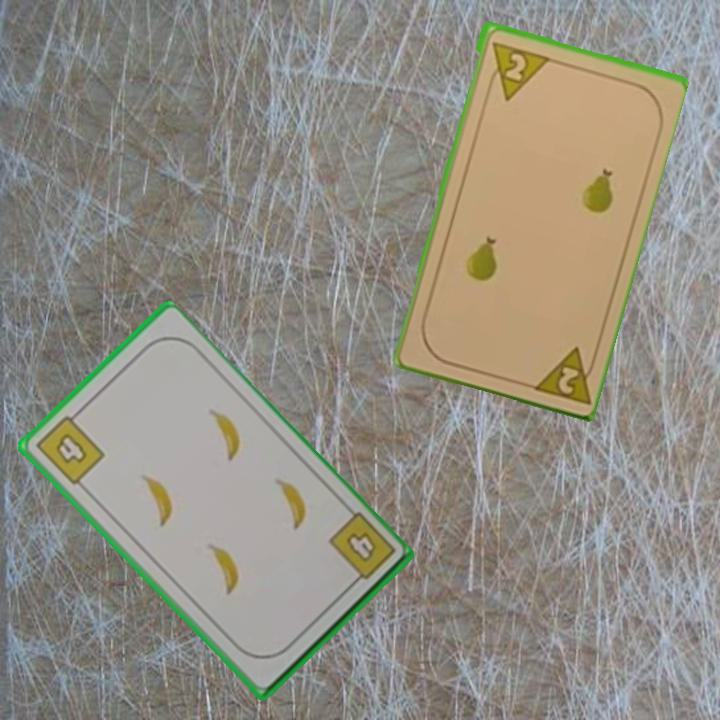2p: (526, 342, 600, 407), (484, 37, 550, 103)
4b: (32, 407, 108, 488), (325, 509, 399, 591)
